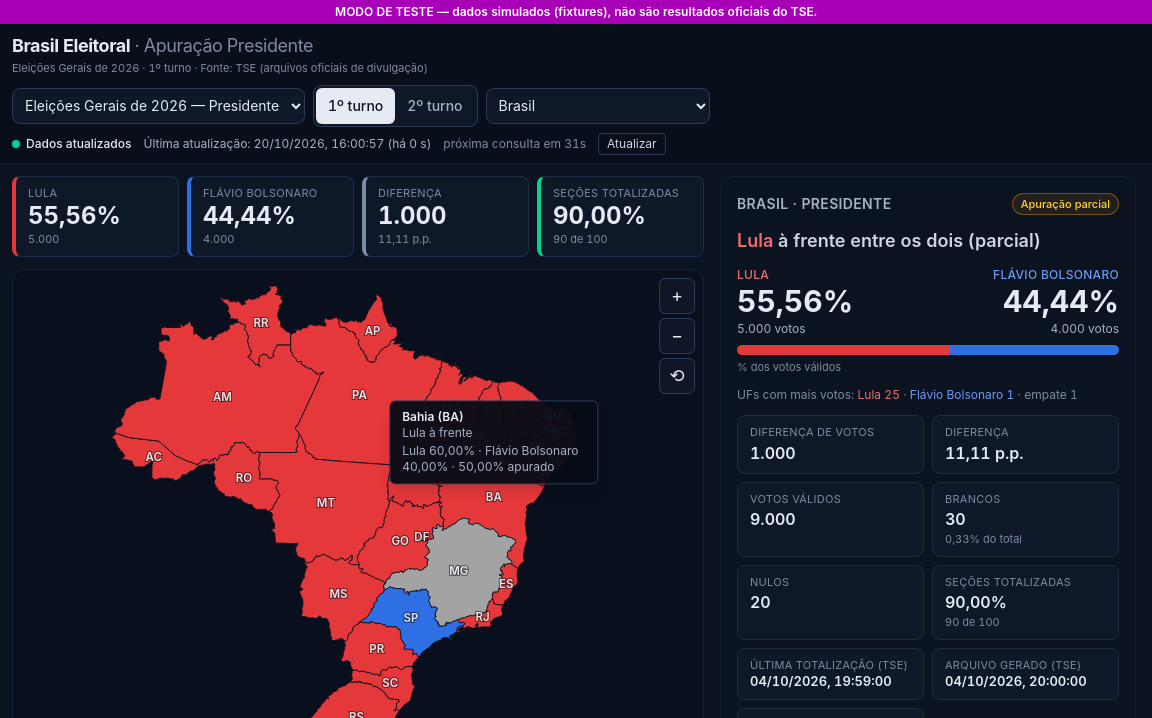
Test: Dashboard › desktop (1440 px) › permite selecionar estados pelo teclado
Press Enter
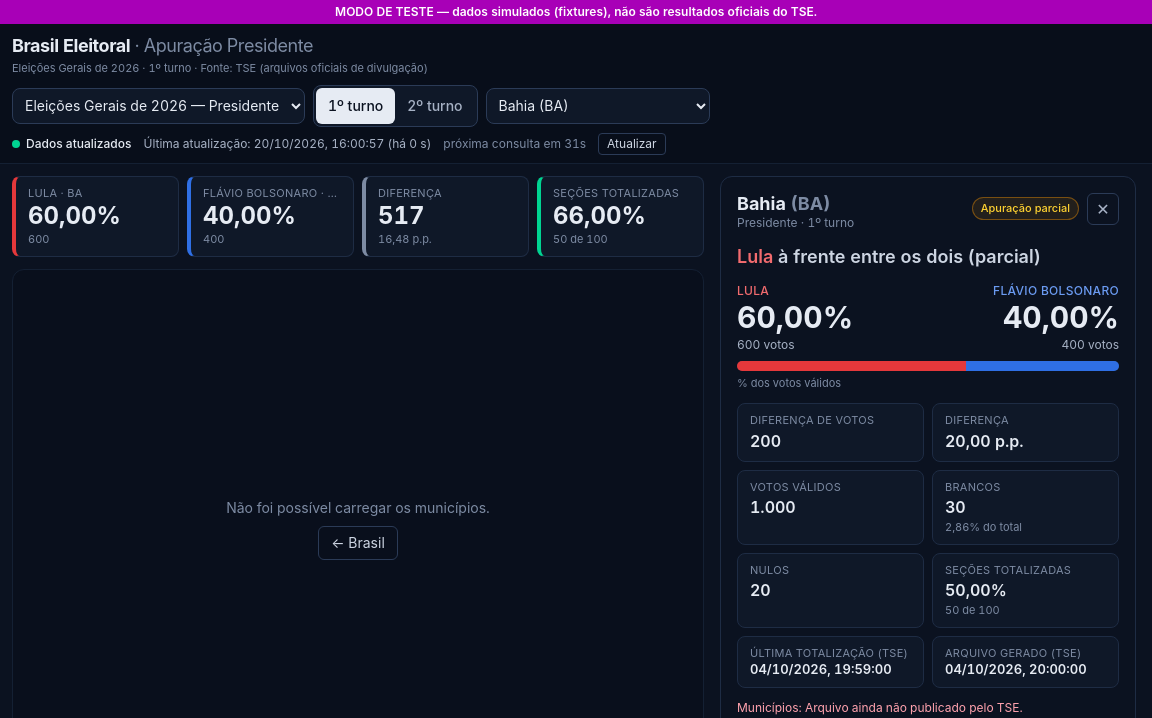
Check: the heading "Bahia (BA)" is shown, box [737,192,830,214]
Click the button named "Fechar detalhes" at (1103, 208), box [1087,192,1119,224]
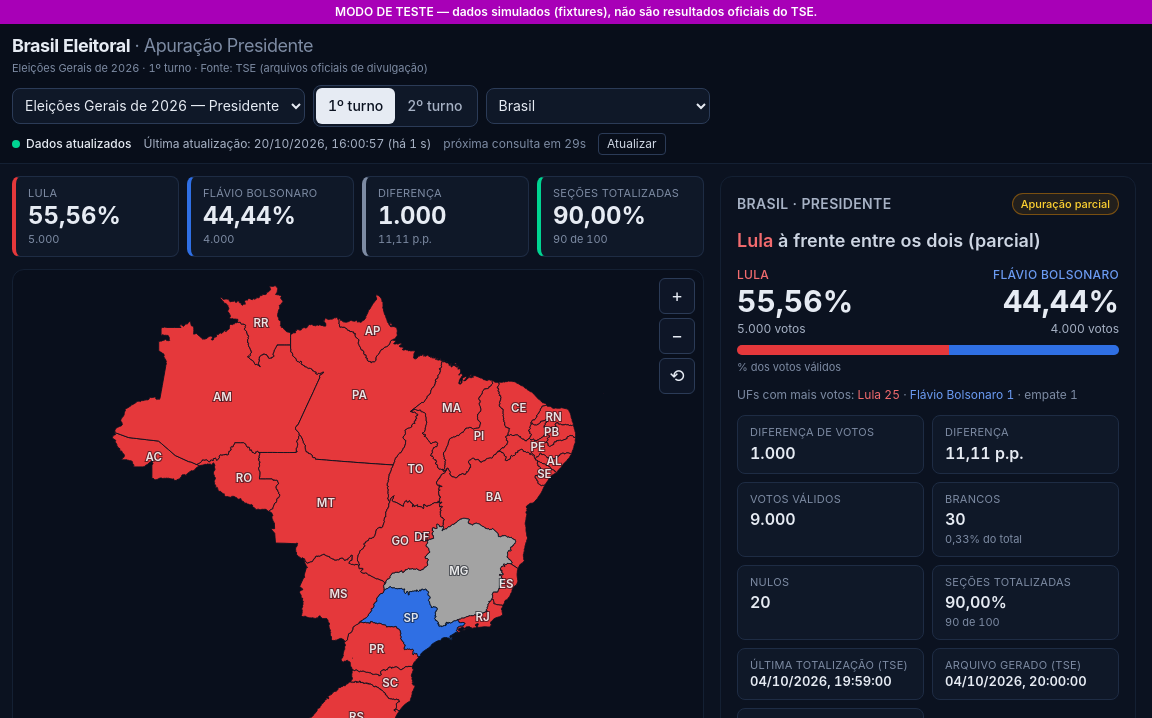
Check: the element with test id "state-detail" is gone
